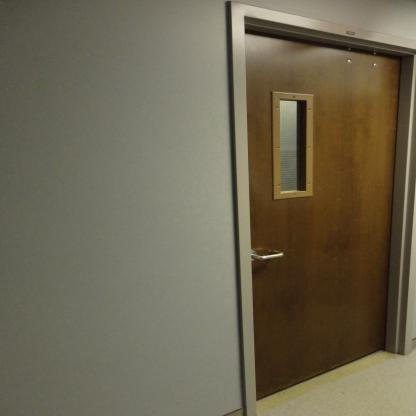door: (247, 41, 404, 406), (386, 338, 388, 341)
lever: (252, 250, 288, 262)
